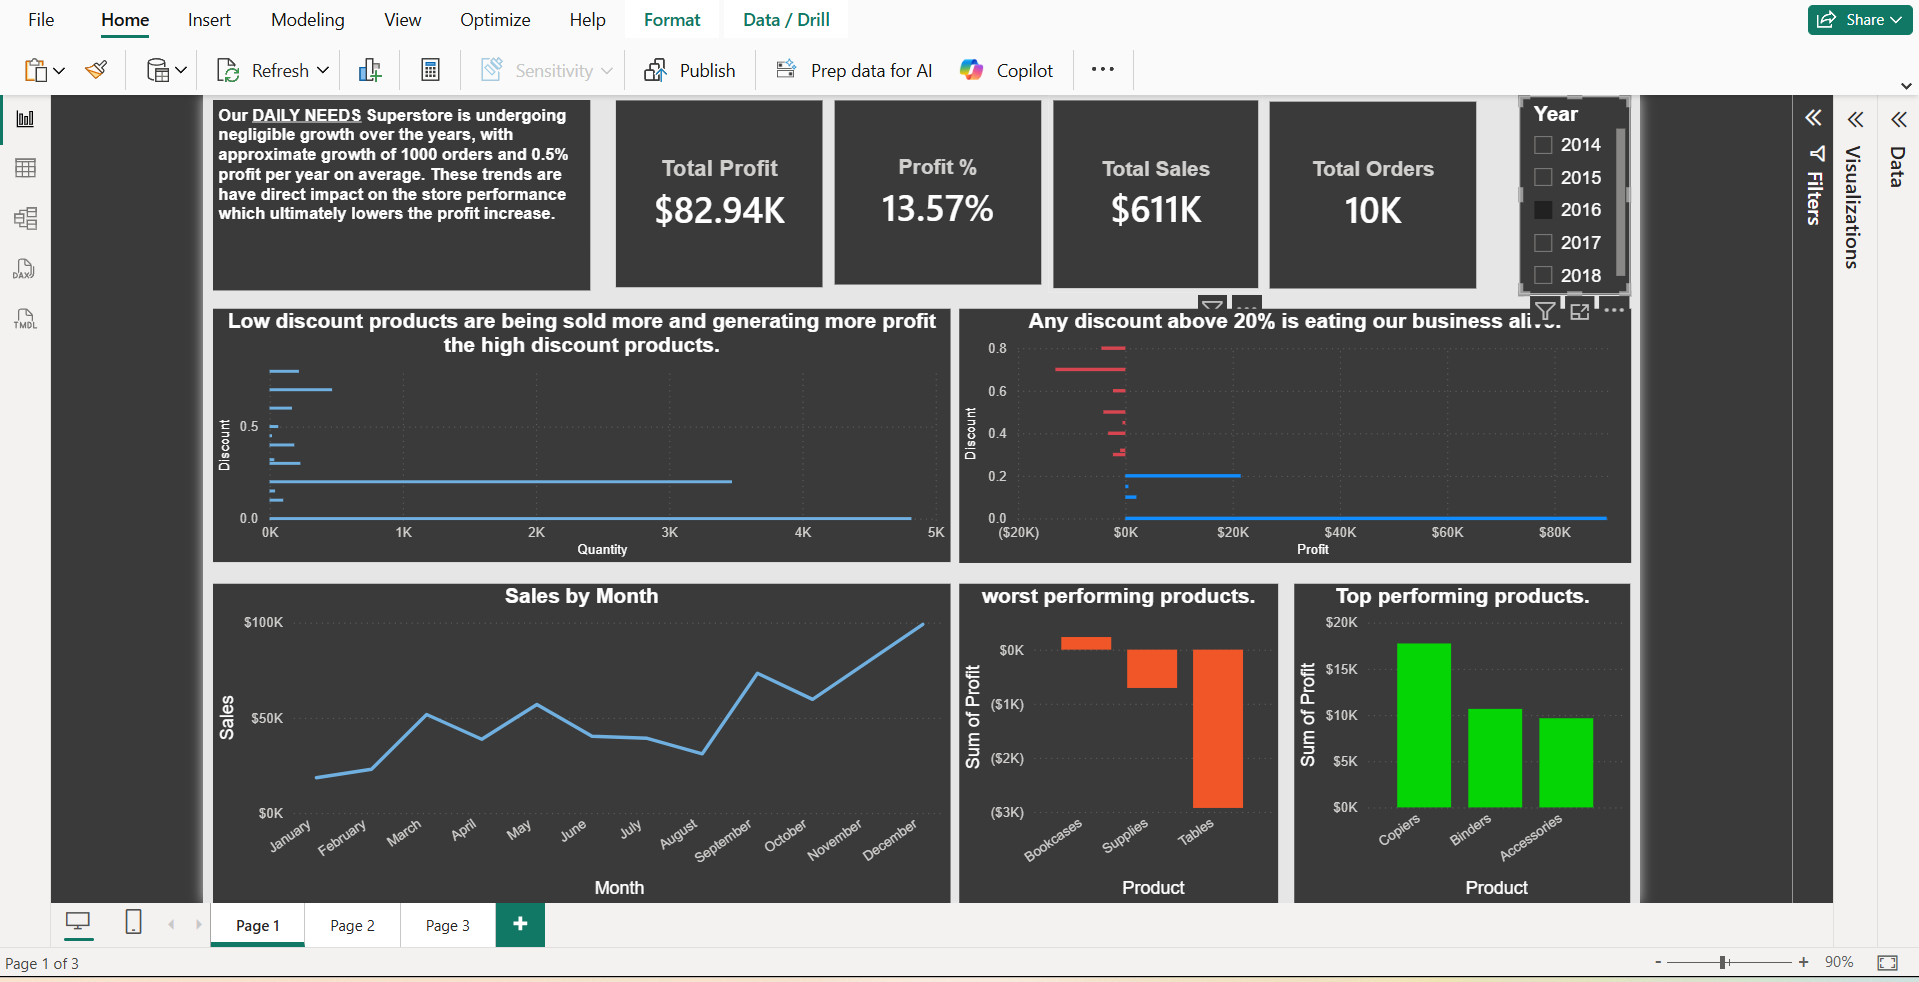

Layout of this report page (visuals, bound fields, positions):
{"tool":"powerbi","page":{"name":"Page 1","canvas":[1280,720],"ordinal":0},"visuals":[{"type":"cardVisual","fields":{"Data":["Sum(superstore.Profit)"]},"box":[362.9,0,194.8,177],"z":0},{"type":"cardVisual","fields":{"Data":["Sum(superstore.Sales)"]},"box":[752,0,192.1,177],"z":1000},{"type":"columnChart","title":"Top performing products.","fields":{"Category":["superstore.Sub-Category"],"Y":["Sum(superstore.Profit)"]},"box":[971.8,435.3,299.4,285],"z":2000},{"type":"columnChart","title":"worst performing products.","fields":{"Category":["superstore.Sub-Category"],"Y":["Sum(superstore.Profit)"]},"box":[673.5,435.3,283.9,285],"z":3000},{"type":"cardVisual","fields":{"Data":["superstore.Profit %"]},"box":[557.7,0,194.8,174.8],"z":4000},{"type":"cardVisual","fields":{"Data":["Sum(superstore.Quantity)"]},"box":[945.1,1.1,194.8,177],"z":5000},{"type":"slicer","fields":{"Values":["superstore.Year"]},"box":[1172,1,99,177],"z":6000},{"type":"lineChart","fields":{"Y":["Sum(superstore.Sales)"],"Category":["superstore.Order Date.Variation.Date Hierarchy.Year","superstore.Order Date.Variation.Date Hierarchy.Quarter","superstore.Order Date.Variation.Date Hierarchy.Month","superstore.Order Date.Variation.Date Hierarchy.Day"]},"box":[9,435,657,285],"z":7000},{"type":"barChart","title":"Any discount above 20% is eating our business alive.","fields":{"Category":["superstore.Discount"],"Y":["Sum(superstore.Profit)"]},"box":[673,190,598,226],"z":8000},{"type":"textbox","box":[9.3,4.7,336,169.8],"z":9000},{"type":"barChart","title":"Low discount products are being sold more and generating more profit the high discount products.","fields":{"Category":["superstore.Discount"],"Y":["Sum(superstore.Quantity)"]},"box":[8.9,190.4,656.8,226],"z":10000}]}

Visuals, with their boxes on the page's 1280x720 design canvas (x1, y1, x2, y2). These are canvas units, not pixel positions in the 1919x982 screenshot, which may show the page scaled, cropped or inside an application window:
cardVisual - Sum(superstore.Profit): locate(363, 0, 558, 177)
cardVisual - Sum(superstore.Sales): locate(752, 0, 944, 177)
"Top performing products." columnChart: locate(972, 435, 1271, 720)
"worst performing products." columnChart: locate(674, 435, 957, 720)
cardVisual - superstore.Profit %: locate(558, 0, 752, 175)
cardVisual - Sum(superstore.Quantity): locate(945, 1, 1140, 178)
slicer - superstore.Year: locate(1172, 1, 1271, 178)
lineChart - Sum(superstore.Sales) x superstore.Order Date.Variation.Date Hierarchy.Year: locate(9, 435, 666, 720)
"Any discount above 20% is eating our business alive." barChart: locate(673, 190, 1271, 416)
textbox: locate(9, 5, 345, 174)
"Low discount products are being sold more and generating more profit the high discount products." barChart: locate(9, 190, 666, 416)
